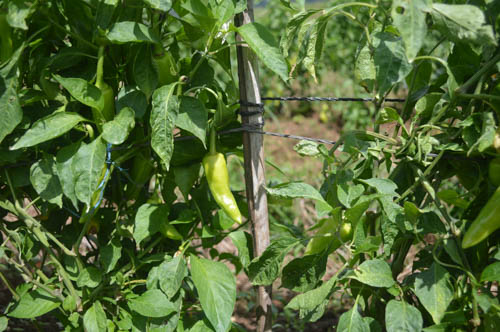ChiliPepper: (204, 155, 245, 229), (308, 220, 352, 259), (90, 90, 119, 123), (152, 58, 180, 85)
